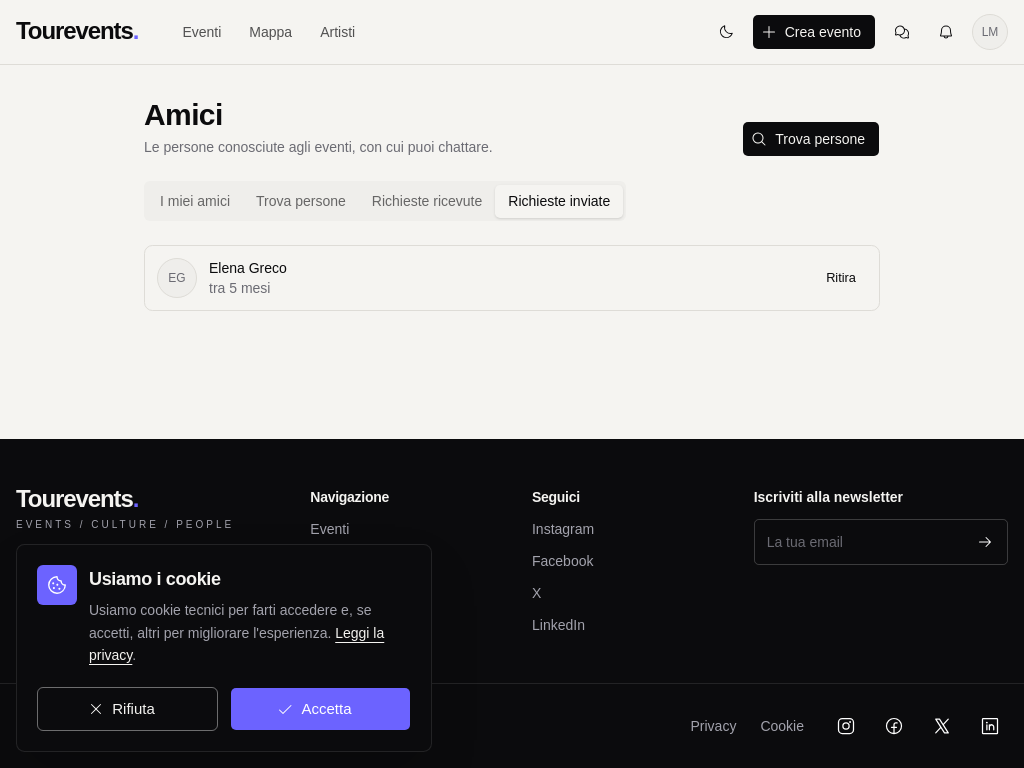
it: FriendsPage: richieste › inviate: "Ritira" cancella la richiesta; senza evento resta solo la data
The image size is (1024, 768).
Expected: the link "Elena Greco" is shown, [209, 260, 287, 276]
Click the button with aria-label "Ritira la richiesta a Elena Greco": (841, 278) [815, 264, 867, 292]
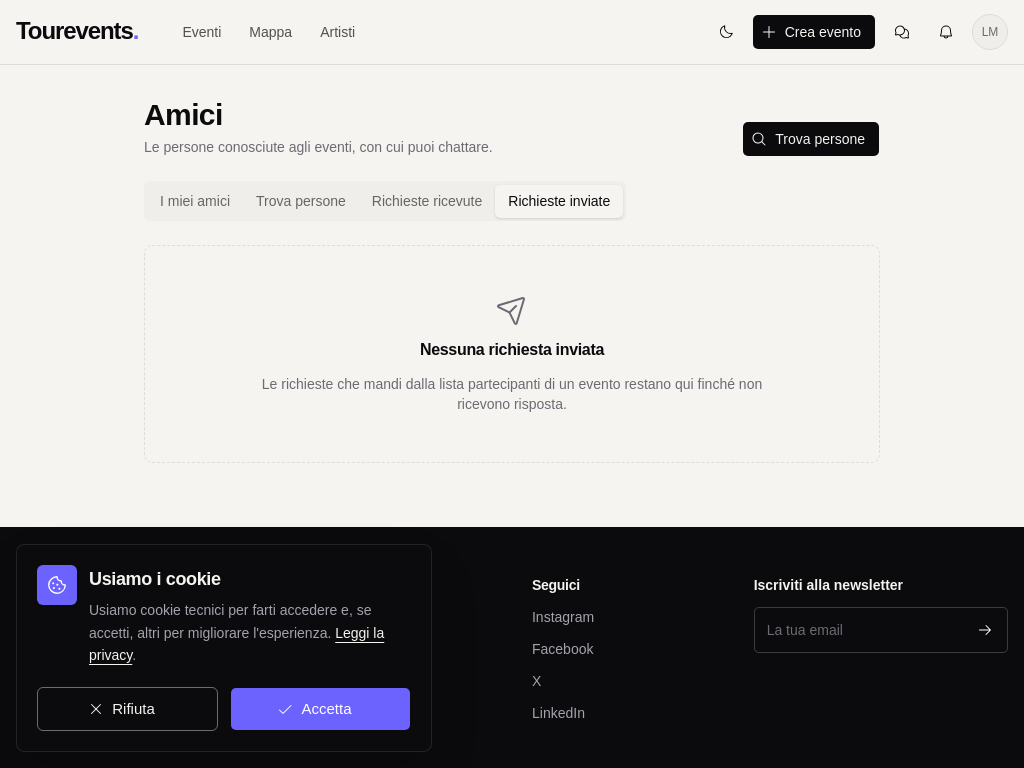
Now the heading "Nessuna richiesta inviata" is shown, box [420, 338, 604, 362]
